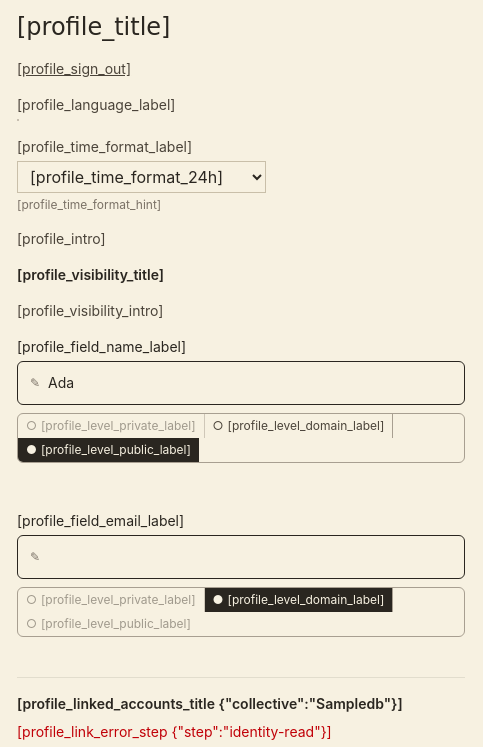
Test: /profile — #160 the created-but-unconfirmed shell › holds no value, so it must not wake the email tiers up
The image size is (483, 747).
Click the button "✎" at (111, 566), box [17,535,465,579]
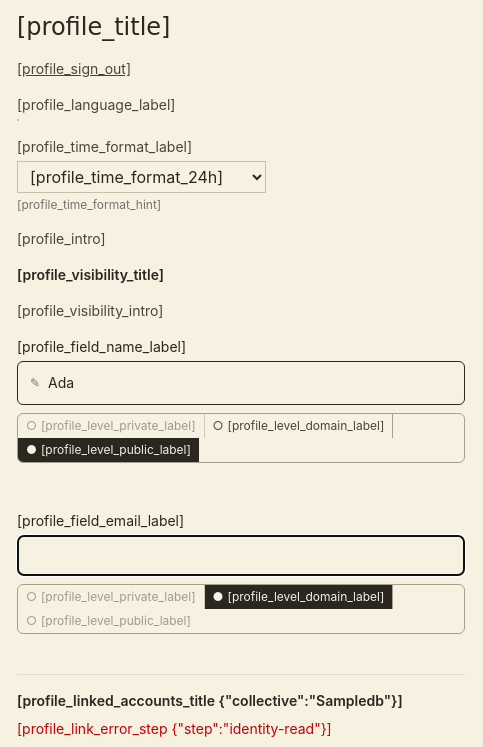
Type "ada@example.org" into the field labelled "[profile_field_email_label]" at (241, 555), box [17,535,465,576]
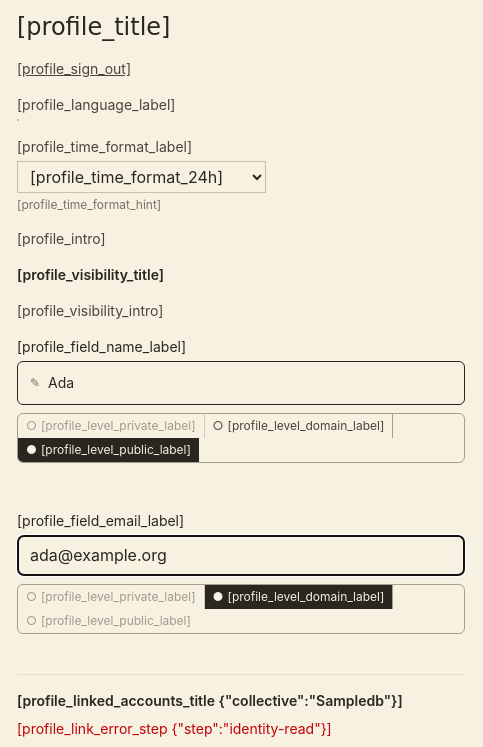
Leave the field labelled "[profile_field_email_label]", box [17,535,465,576]
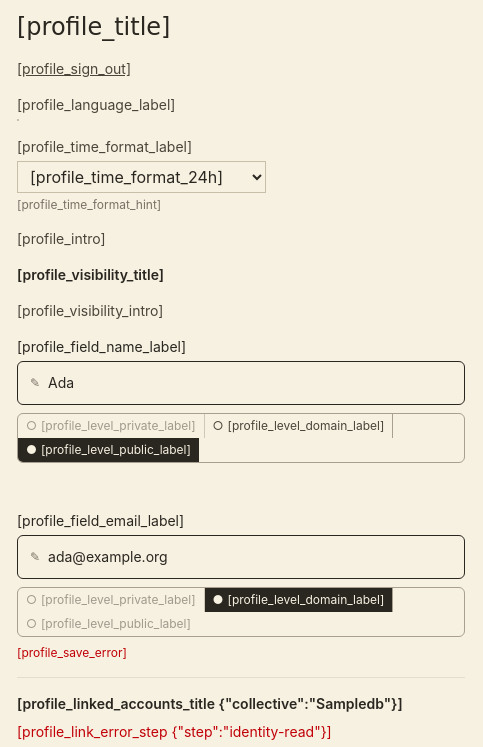
Now the message "[profile_save_error]" is shown, box [17,645,127,660]
